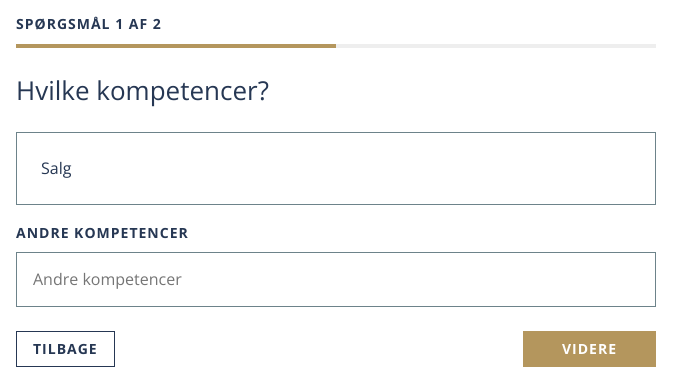
Test case: OnboardingFlow — conversational ejer-flow › gemmer de valgte svar og viser kvittering
Click the button "Salg": (56, 168) [16,132,656,205]
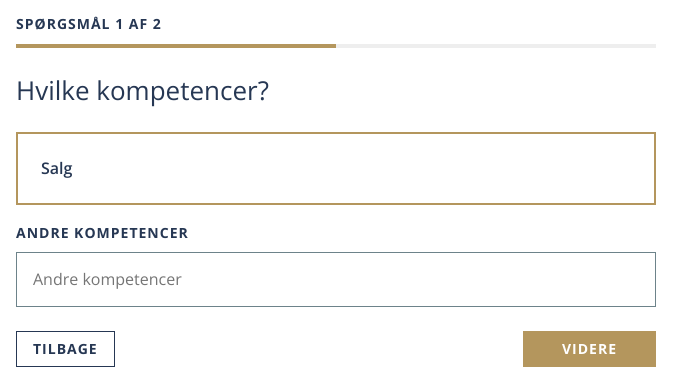
Click the button "Videre": (590, 349) [523,331,656,367]
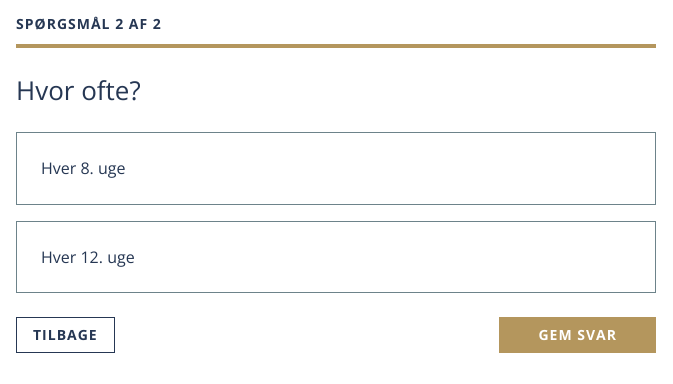
Click the button "Hver 8. uge": (83, 168) [16,132,656,205]
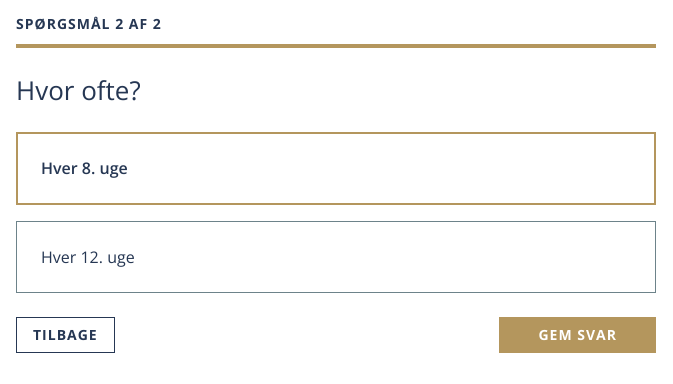
Click the button "Gem svar": (578, 335) [500,317,656,353]
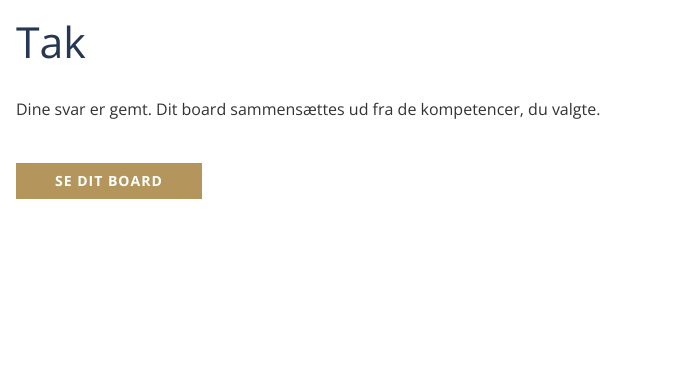
Result: the heading "Tak" is shown at [16,12,86,71]
